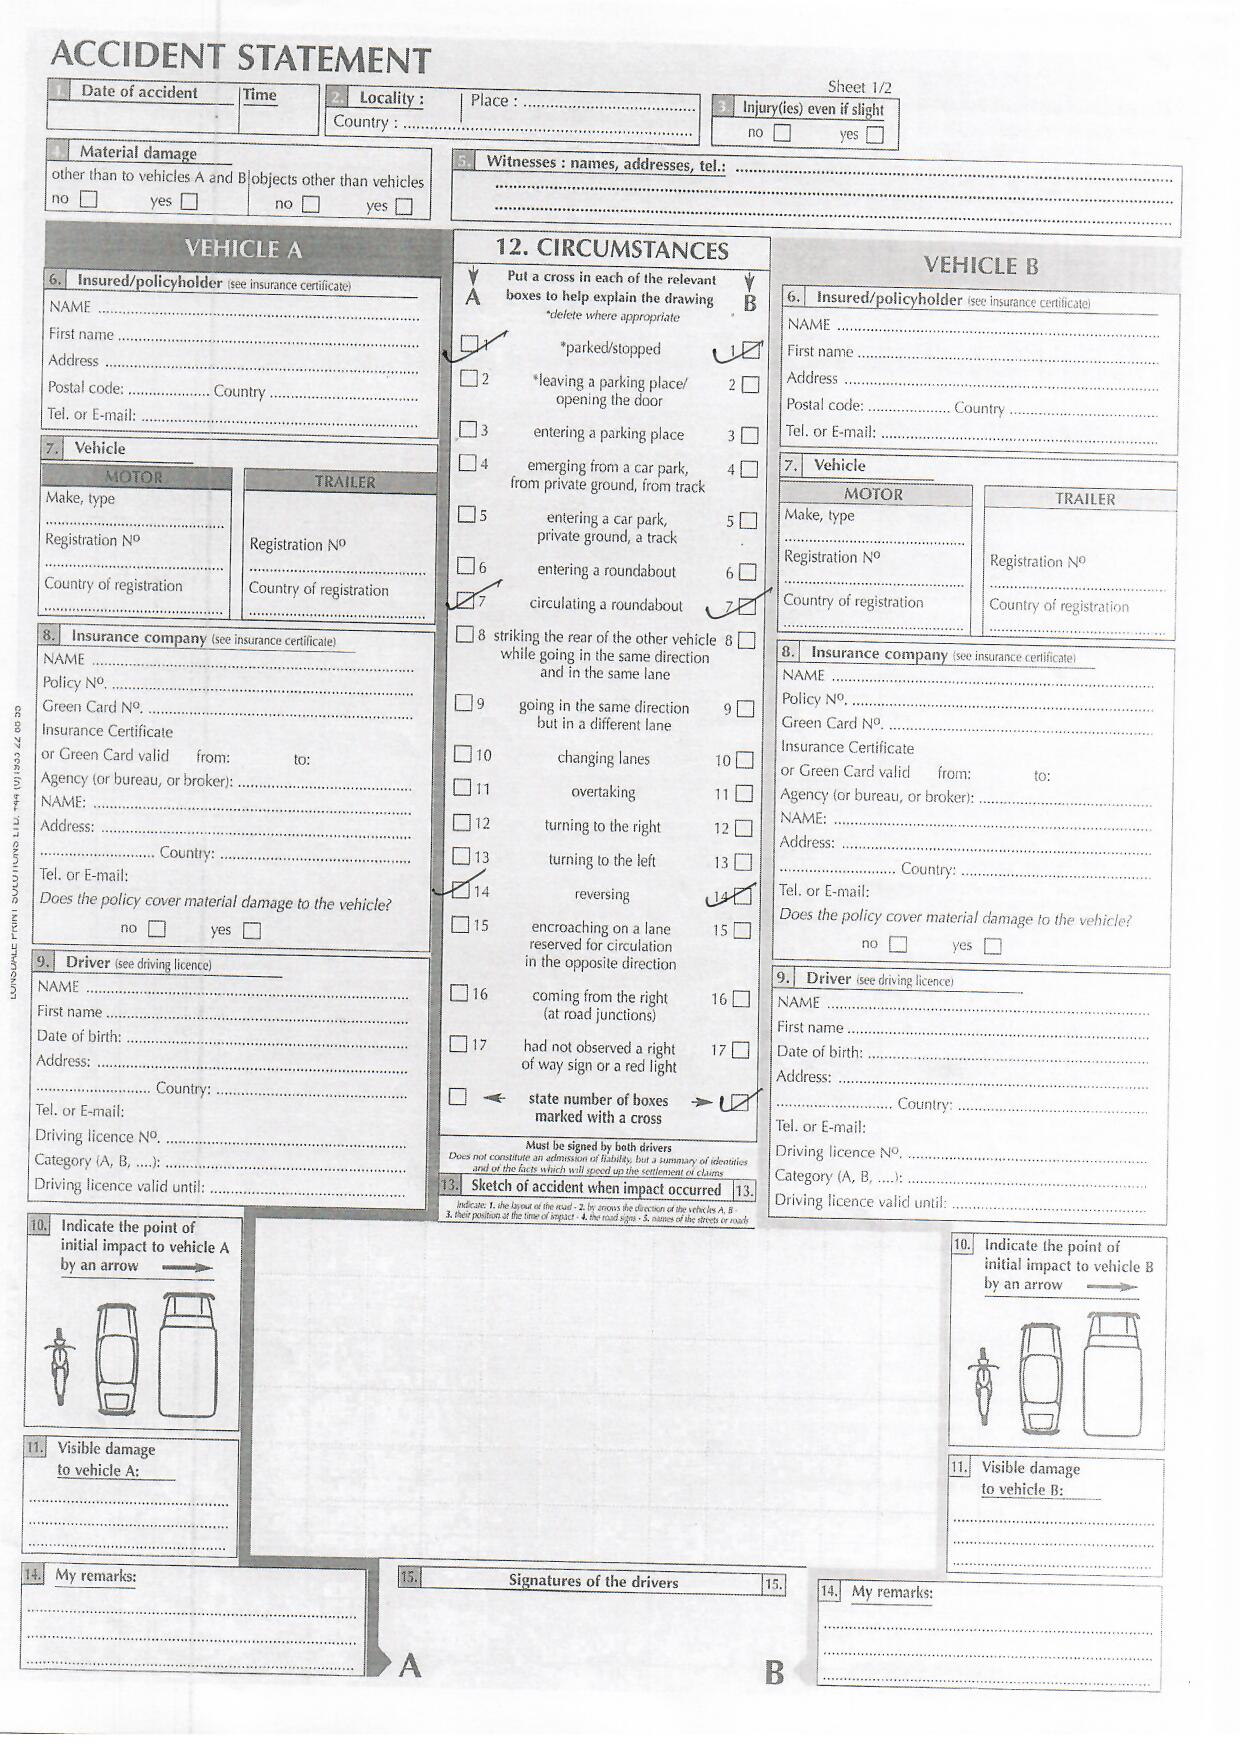a: (723, 1091, 754, 1118), (446, 876, 474, 905), (455, 332, 484, 357), (735, 338, 765, 362), (454, 589, 480, 613), (727, 885, 756, 907), (735, 595, 760, 620)
